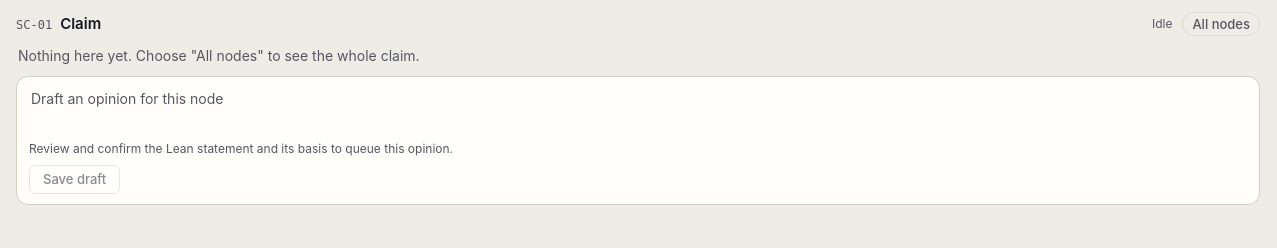
restores a saved opinion for the exact proof node and consumes it only with a confirmed queue receipt
This screenshot has width=1277, height=248.
Later steps or results of the test are not shown.
Step 1. Type "  First check the original premise.  " into the text box named "Proof opinion" → (638, 110), box x1=29 y1=87 x2=1247 y2=132
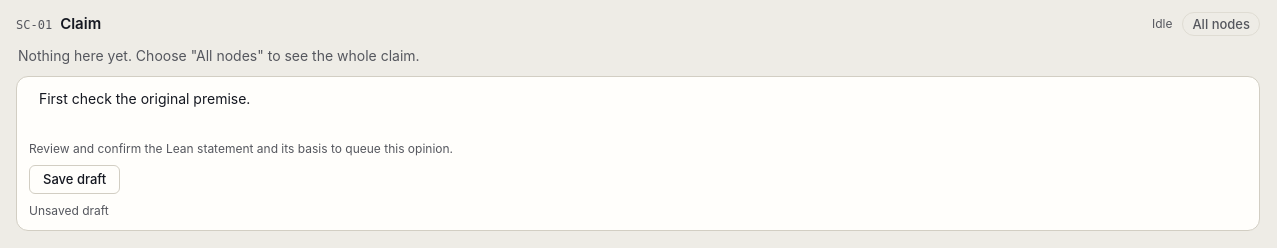
Step 2. Click the button "Save draft" → (75, 180), box x1=29 y1=165 x2=120 y2=194
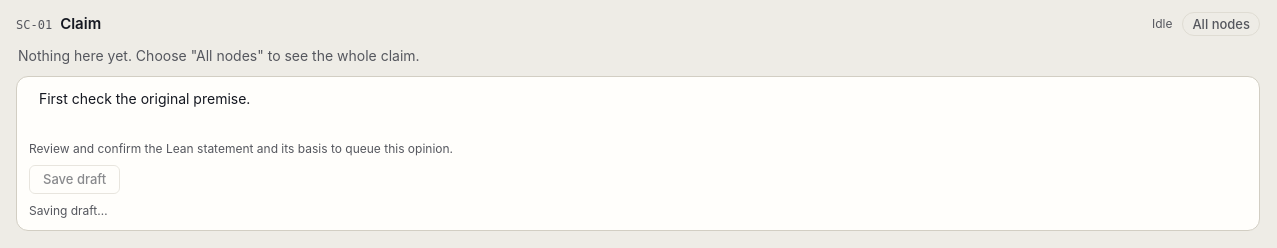
Expected: the text "Review and confirm the Lean statement and its basis to queue this opinion." is shown, x1=29 y1=141 x2=453 y2=156
Result: the text "Saving draft…" is shown at x1=29 y1=203 x2=108 y2=218
